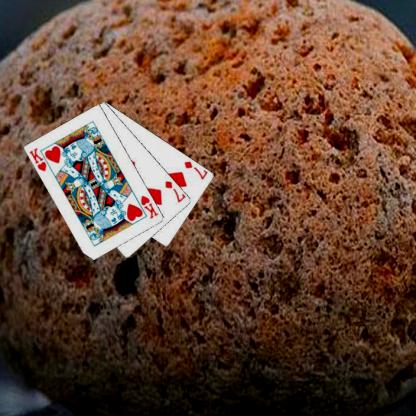7D: (182, 158, 209, 181), (163, 178, 186, 204)
KH: (138, 192, 160, 220), (27, 145, 48, 173)
